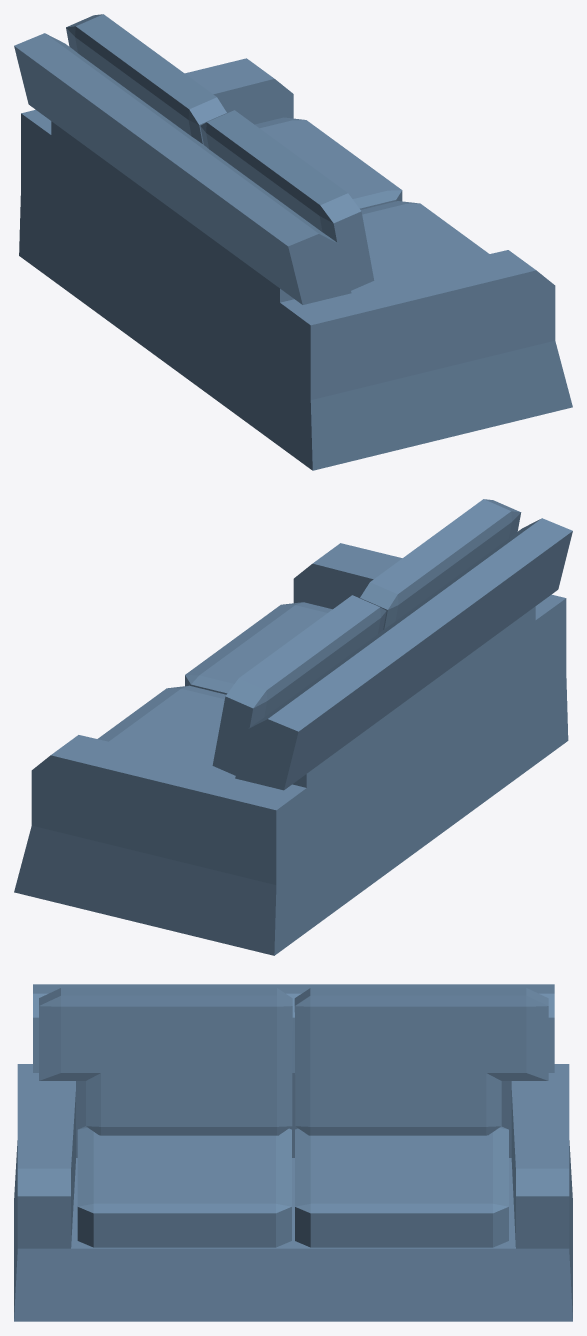
The model's file is SofaDouble.glb.
3 views of the same model, one above another, from view 1: azimuth 30°, elevation 25°; view 2: azimuth 150°, elevation 25°; view 3: azimuth 270°, elevation 25° (orthographic). The views are drawn at different scales.
Size of the model in its own units: 0.7369 by 0.6276 by 1.36.
